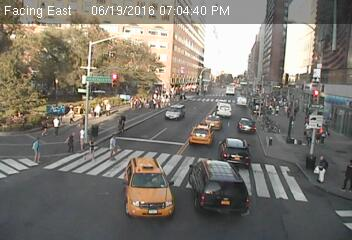neg: (178, 112, 196, 136), (150, 168, 165, 188), (217, 145, 231, 164), (223, 115, 237, 133), (234, 142, 247, 159), (216, 182, 227, 197), (209, 187, 219, 201), (205, 98, 214, 110), (196, 107, 204, 118), (227, 96, 235, 107), (239, 102, 246, 112), (217, 88, 223, 96), (205, 190, 210, 198)
pos: (309, 151, 336, 186), (331, 156, 351, 195), (83, 137, 104, 164), (103, 134, 123, 161), (72, 123, 92, 149), (61, 127, 79, 151), (30, 136, 47, 159), (35, 115, 52, 138), (49, 115, 65, 137)
